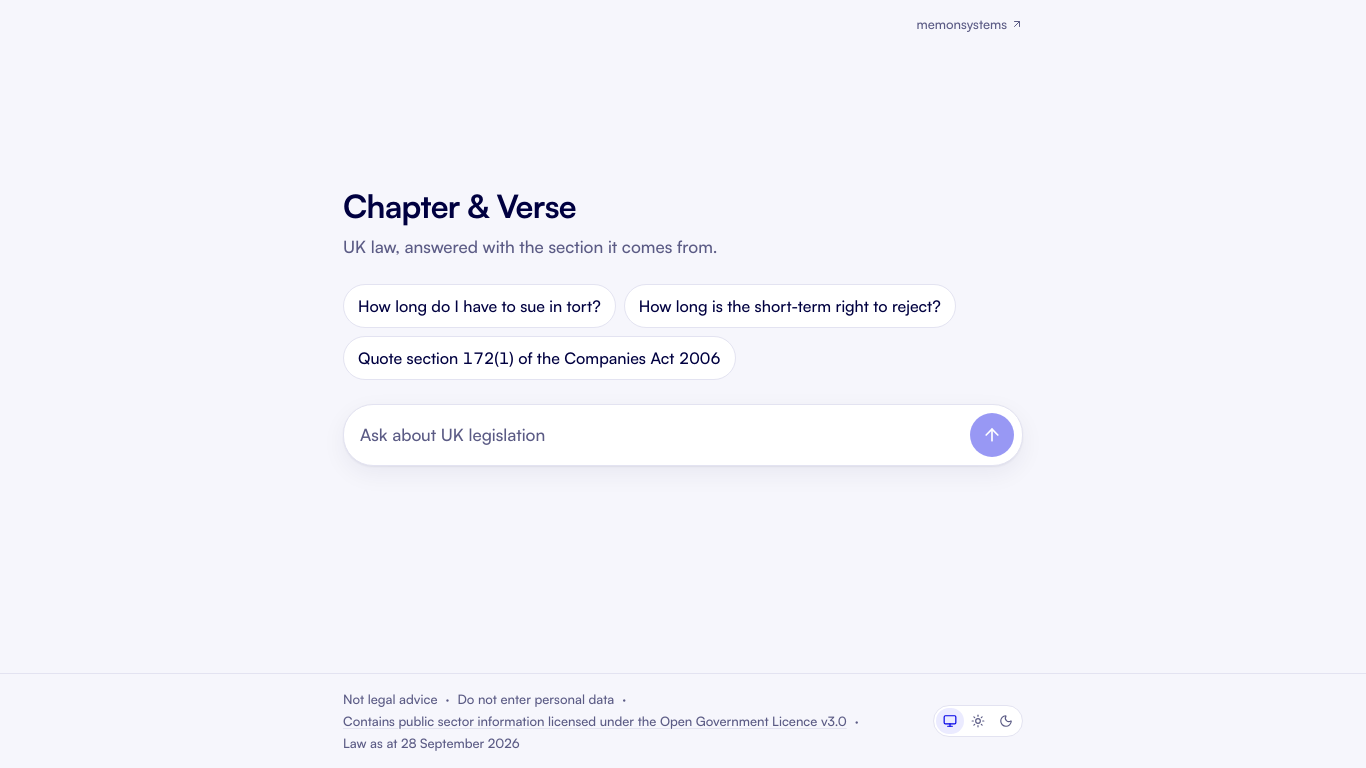
Choice, Change, Retry, and Conversation State (S1-S7) › hides both QuoteBlock and SourcePanel on fallback extractive until user clicks Show statutory text
This screenshot has width=1366, height=768.
In the text box with placeholder "Ask about UK legislation": (661, 435) [360, 413, 962, 457], type "whistleblowing protection"
Then press Enter
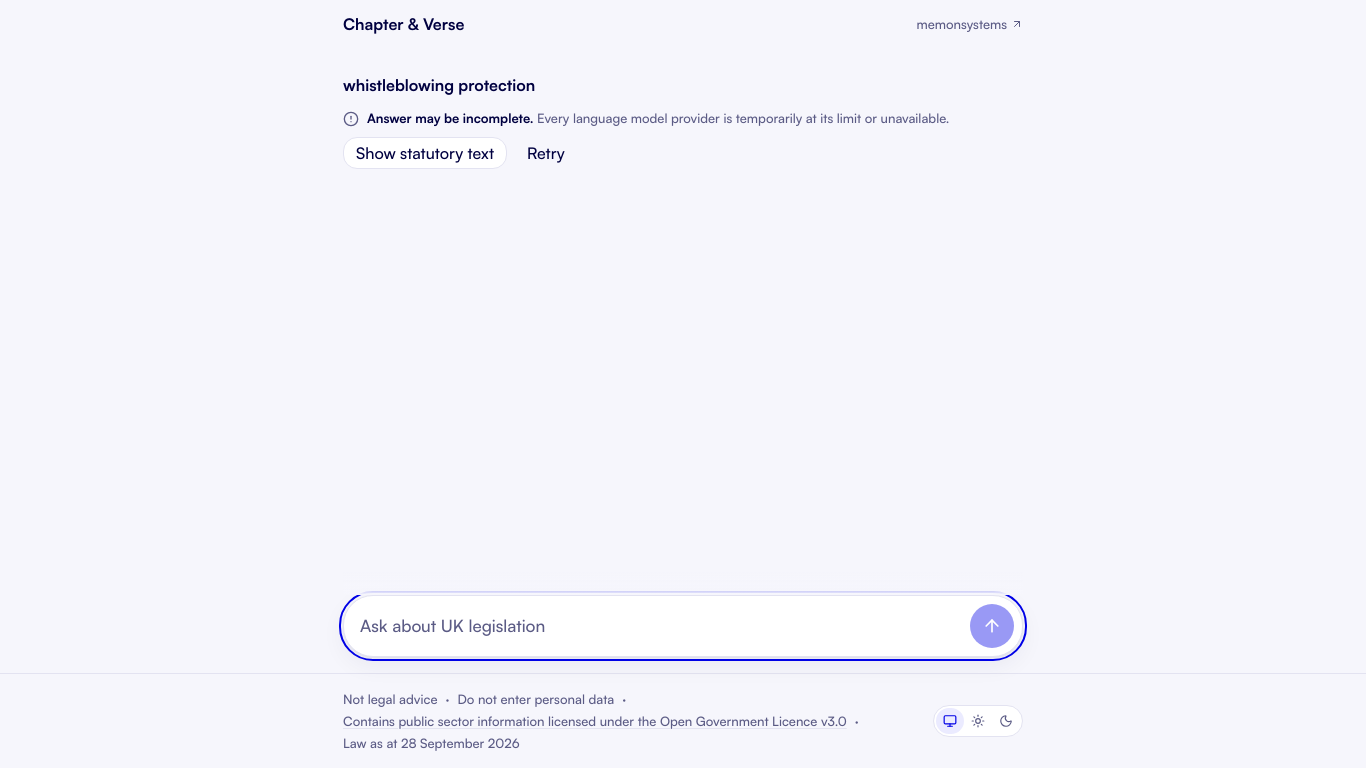
Expected: the text "protected disclosure" is not shown
Result: the button "Show statutory text" is shown
Click the button "Show statutory text": (425, 153) [343, 137, 507, 169]
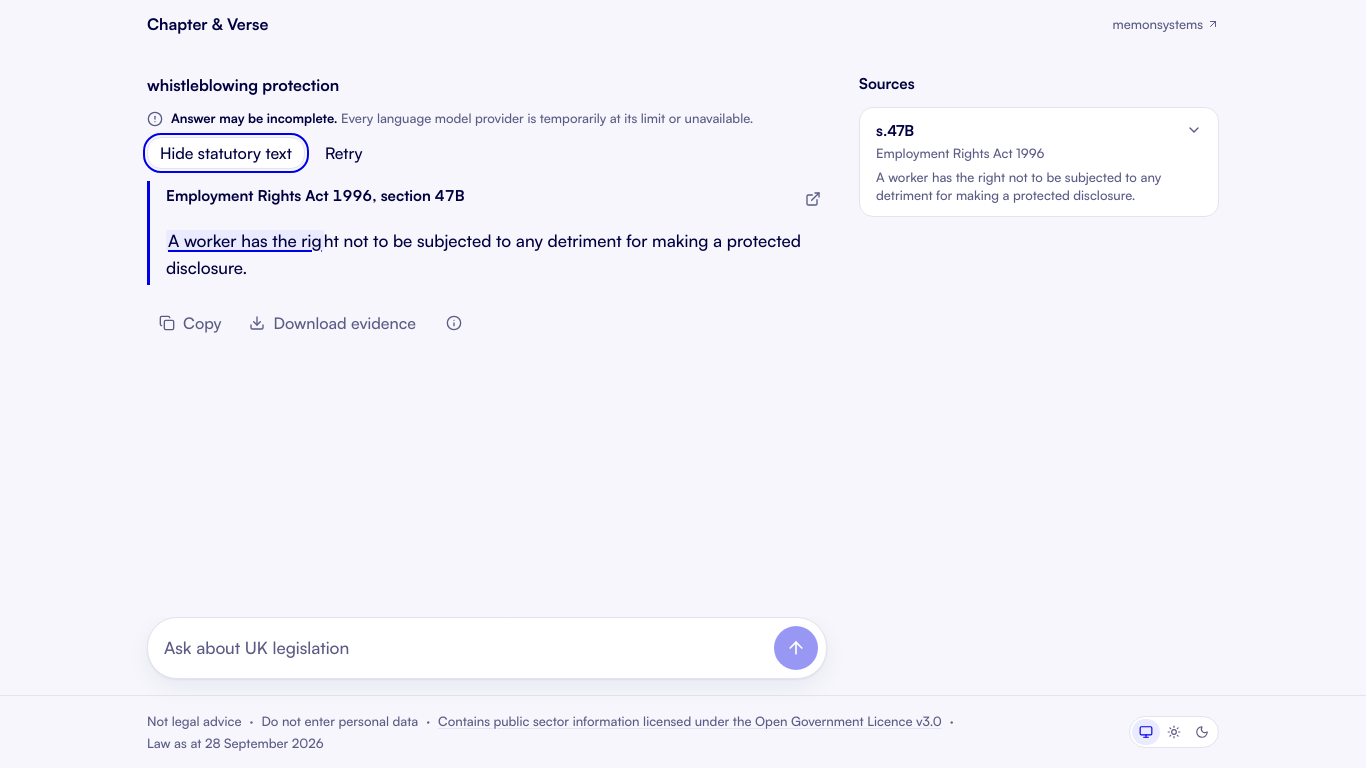
Result: the element that starts with "Sources" is shown at [859, 73, 1219, 217]
